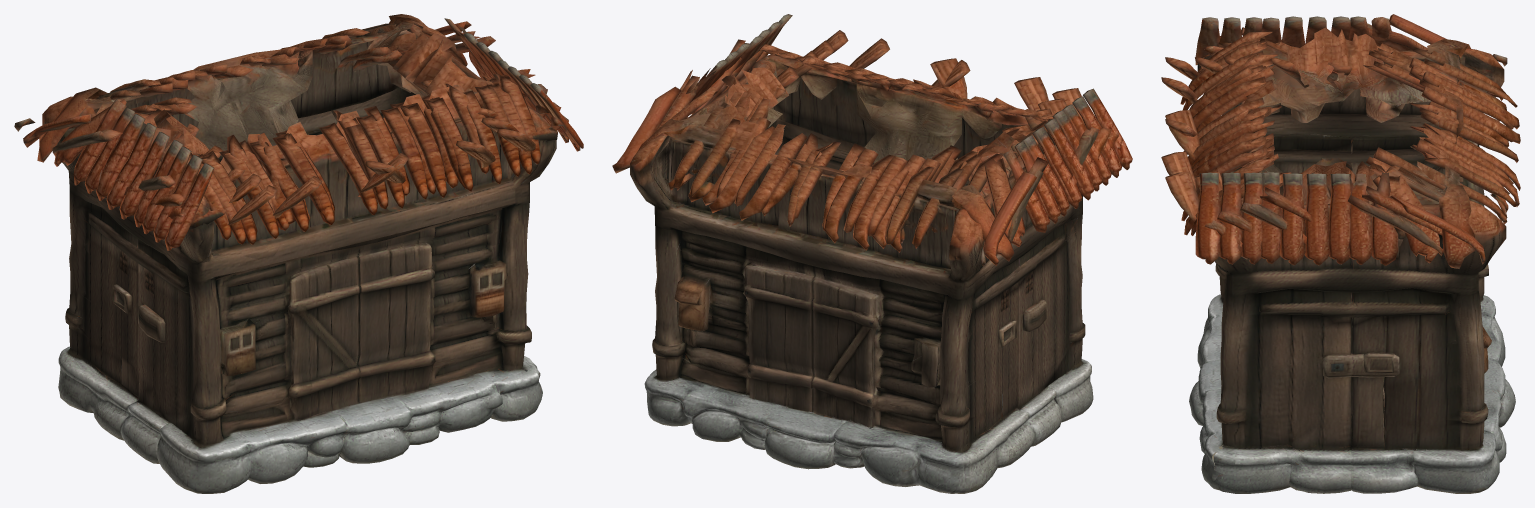
File: farm_shed.glb
3 views of the same model, side by side, from view 1: azimuth 30°, elevation 25°; view 2: azimuth 150°, elevation 25°; view 3: azimuth 270°, elevation 25° (orthographic). The views are drawn at different scales.
Visible parts, largest first — view 1: mesh_node; view 2: mesh_node; view 3: mesh_node.
Part boxes in pixels (bbox=[...]): mesh_node: bbox=[14, 14, 583, 493]; mesh_node: bbox=[612, 14, 1132, 493]; mesh_node: bbox=[1161, 14, 1520, 493].
Size of the model in its own units: 1.9 by 1.46 by 1.47.
Materials: 1 (1 with a texture image).
